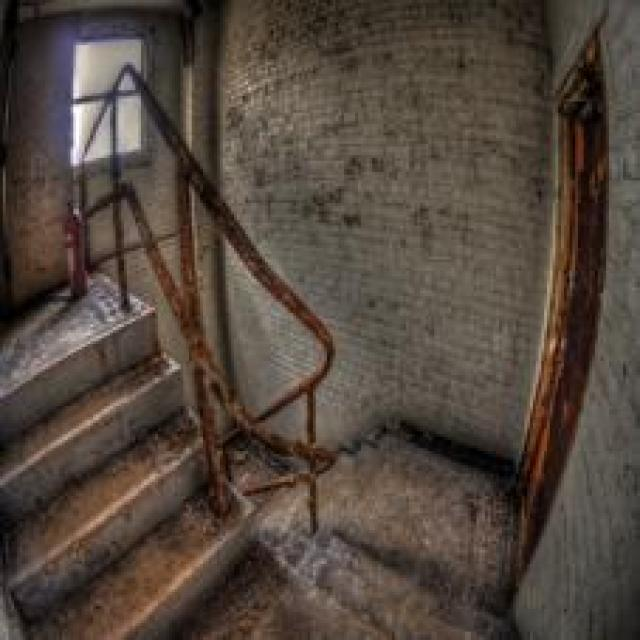downstair: (213, 314, 475, 528)
